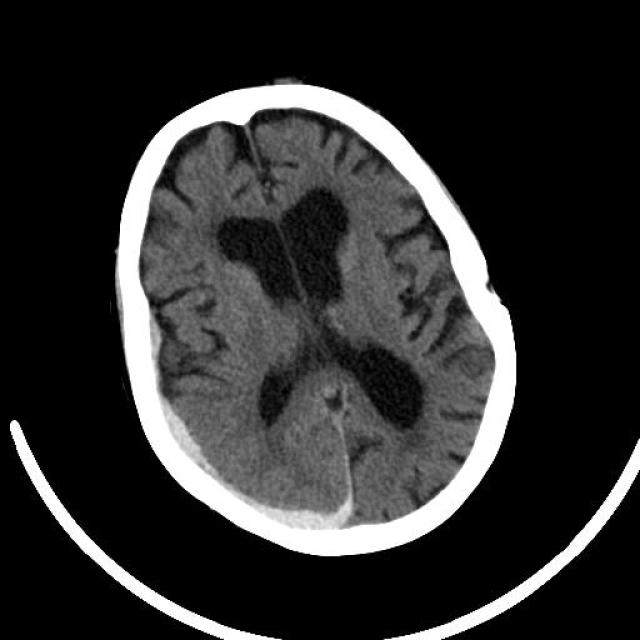Subdural: (142, 402, 352, 562)
